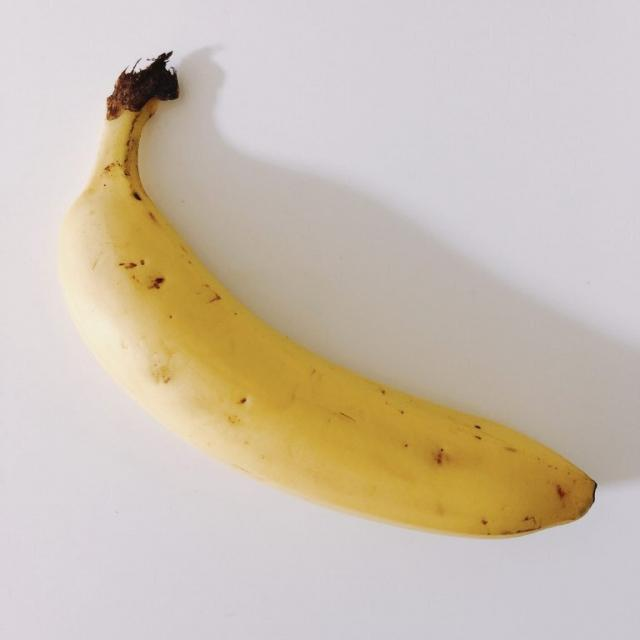Banana: (48, 54, 601, 540)
